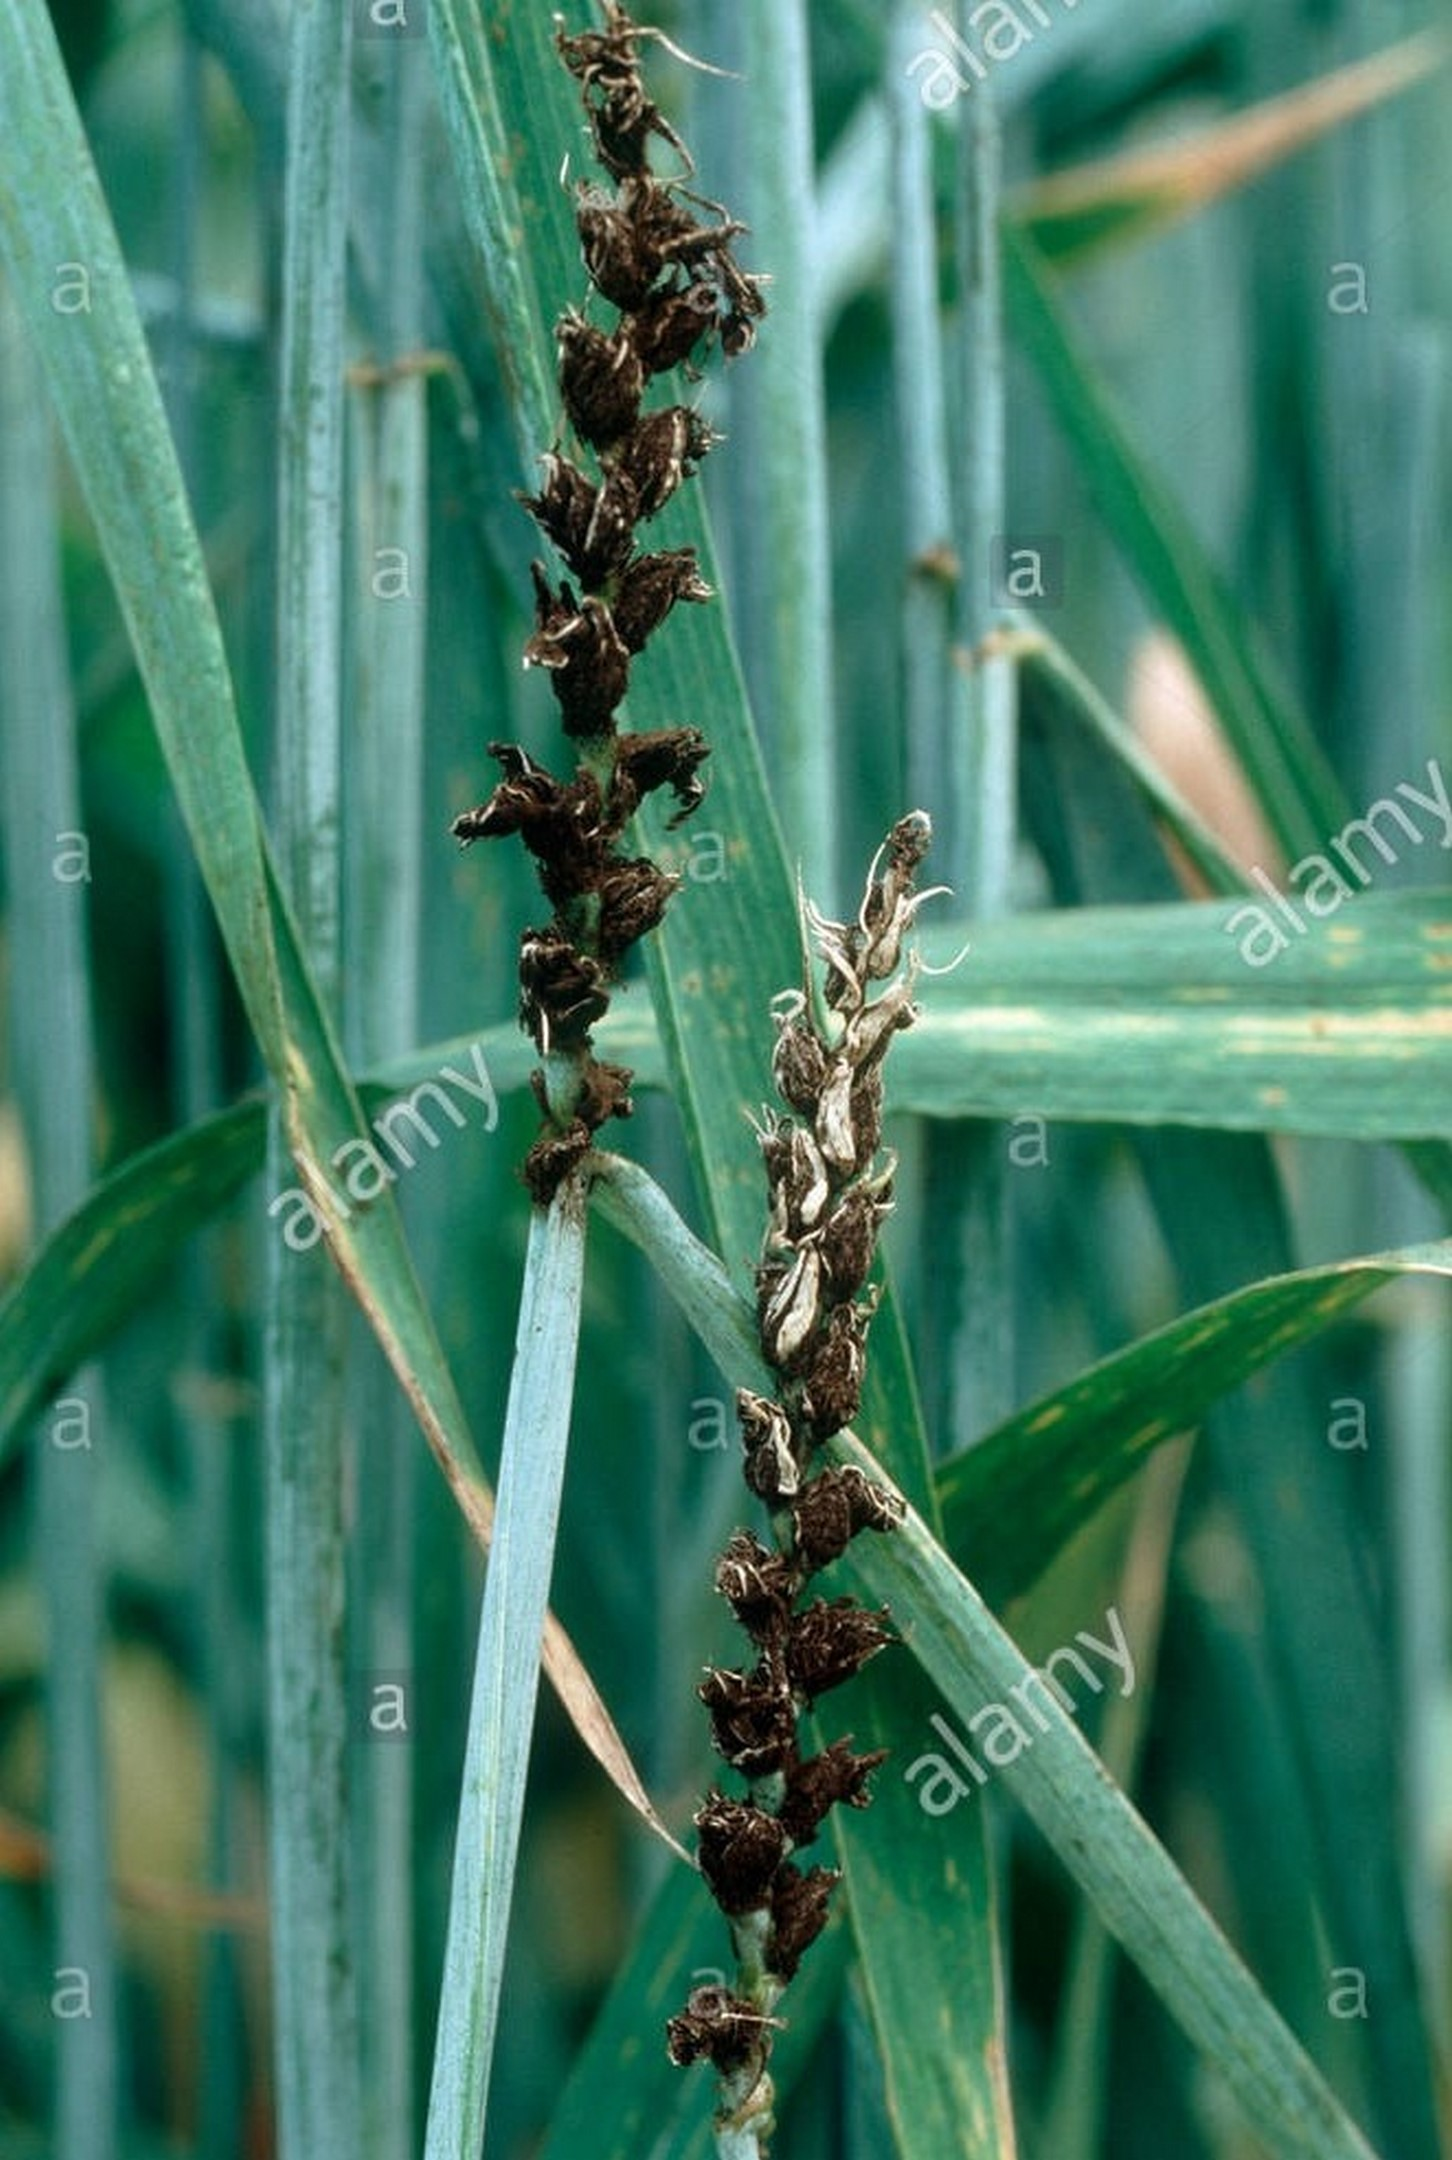Wheat Loose Smut: (634, 877, 1045, 2017), (473, 47, 792, 1168)
